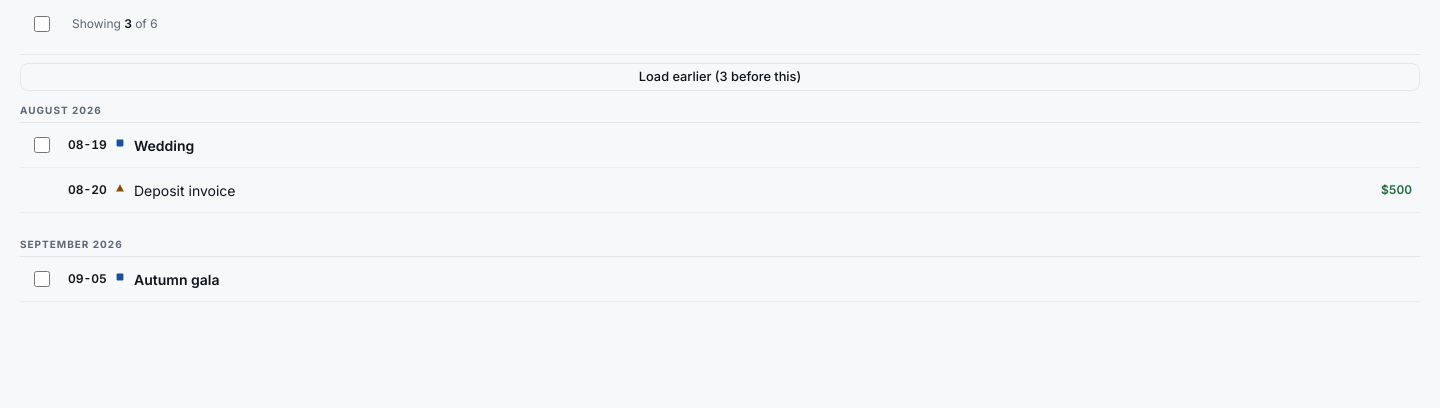
AgendaView — multi-select › select-all covers only the reschedulable rows in view, and toggles back off
Click the checkbox named "select all 2 reschedulable rows in view" next to "Showing". click: (42, 24)
box: x1=34 y1=16 x2=50 y2=32
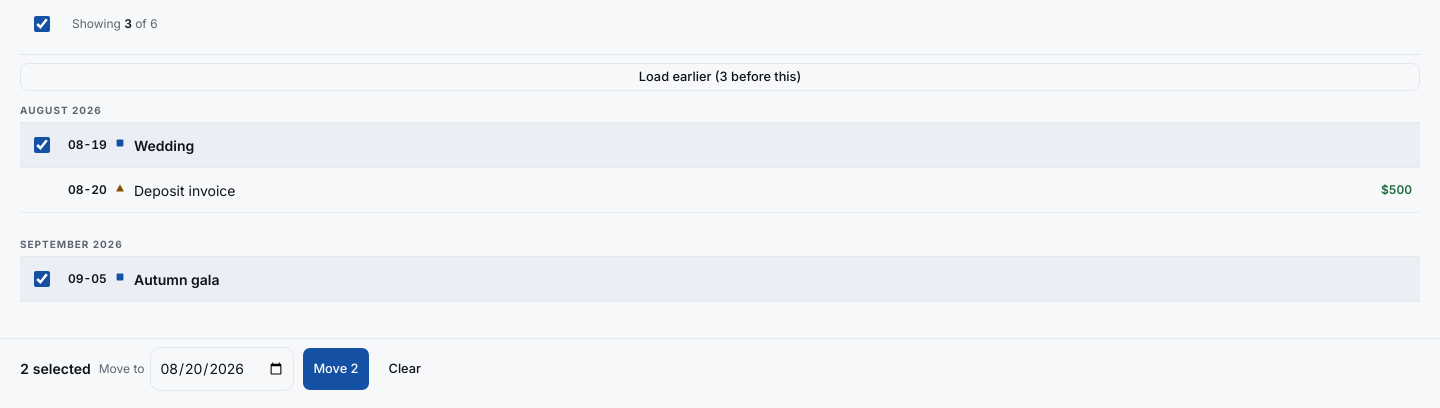
Expected: the text "2 selected" is shown, x1=20 y1=359 x2=91 y2=379
Click the checkbox named "select all 2 reschedulable rows in view" next to "Showing". click: (42, 24)
box: x1=34 y1=16 x2=50 y2=32
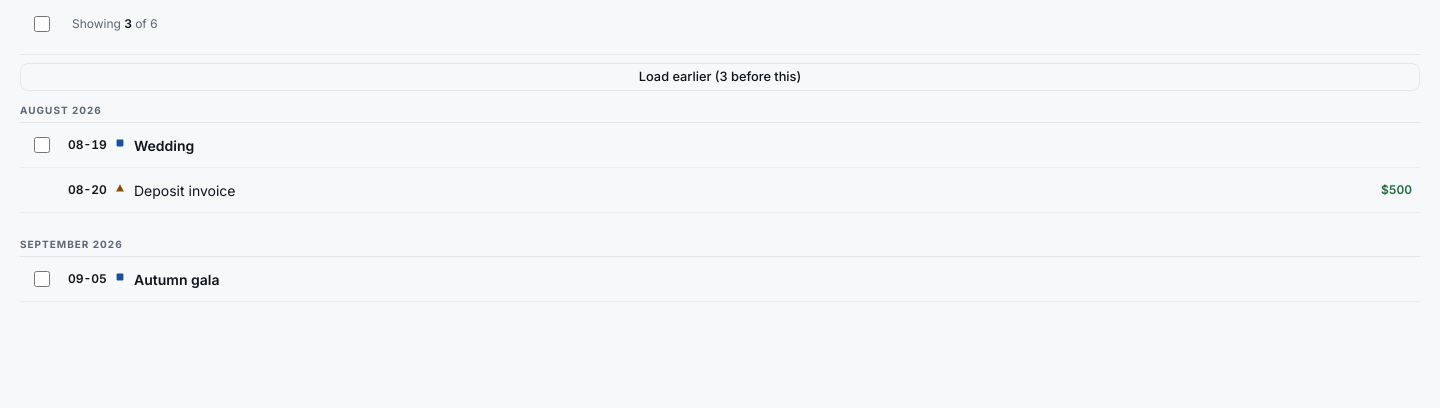
Expected: the text "2 selected" is gone
